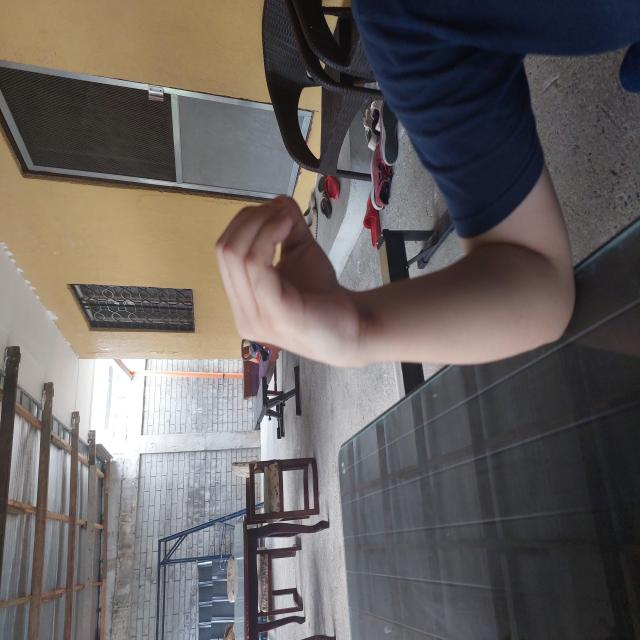O: (270, 212, 449, 362)
